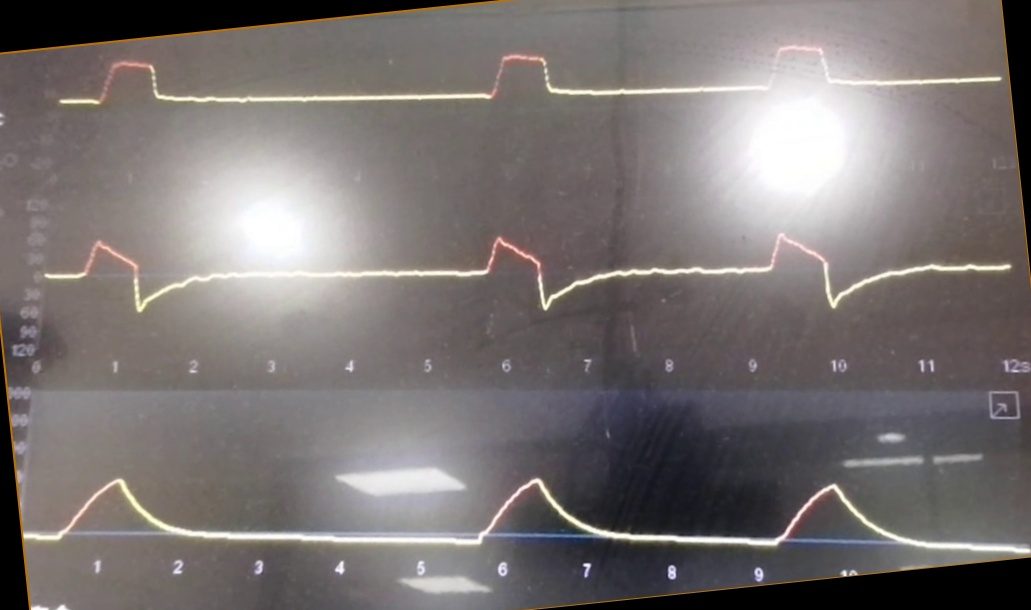Normal Flow: (46, 214, 1018, 335)
Normal Volume: (26, 440, 1026, 558)
